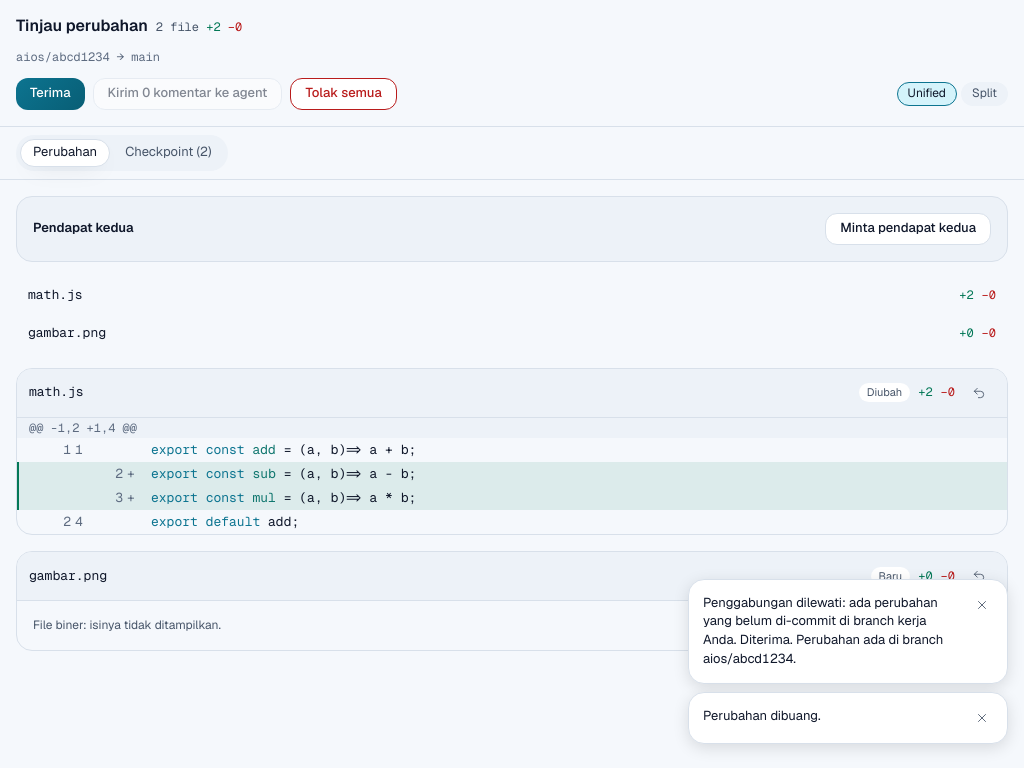
Tinjau perubahan: terima dan tolak › keputusan gagal: pesan galat dengan langkah berikutnya; panel dan komentar tetap
This screenshot has width=1024, height=768.
Expected: the heading "Tinjau perubahan" is shown, [16,16,148,37]
Expected: the element "math.js" is shown, [16,368,1008,535]
Step 1. Click the button "Terima" → coordinates (50, 94), box [16,78,85,110]
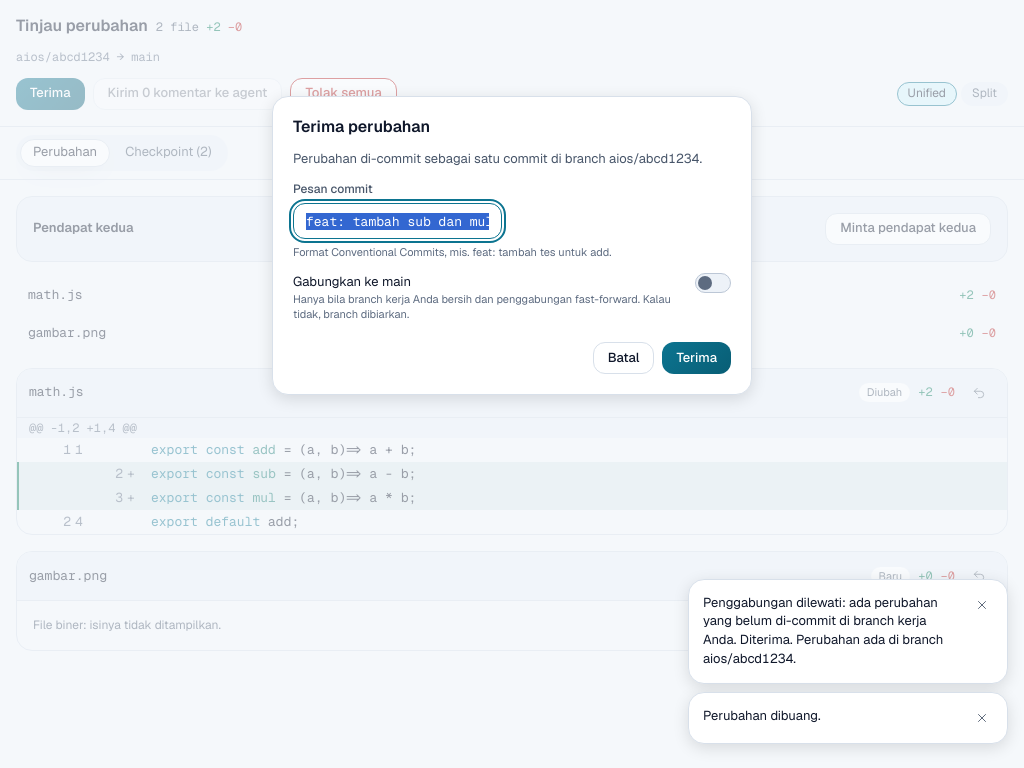
Step 2. Click the button "Terima" → coordinates (697, 358), box [662,342,731,374]
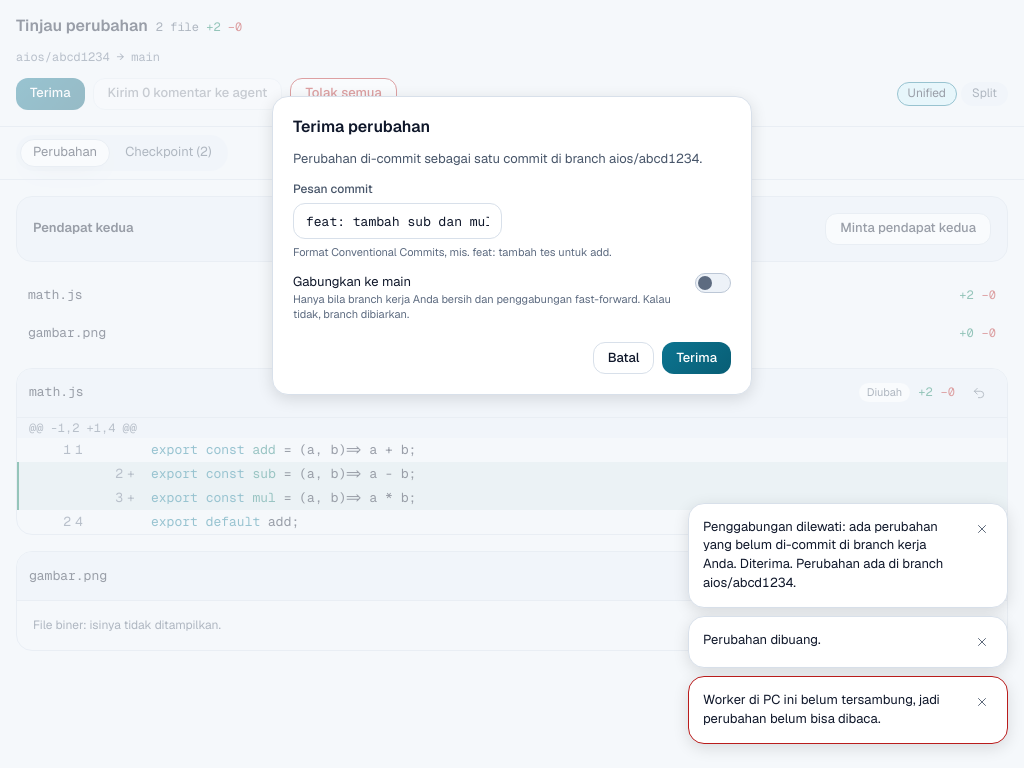
Result: the dialog "Terima perubahan" is shown at [272,96,752,396]
Result: the text "Worker di PC ini belum tersambung, jadi perubahan belum bisa dibaca." is shown at [703,691,959,729]
